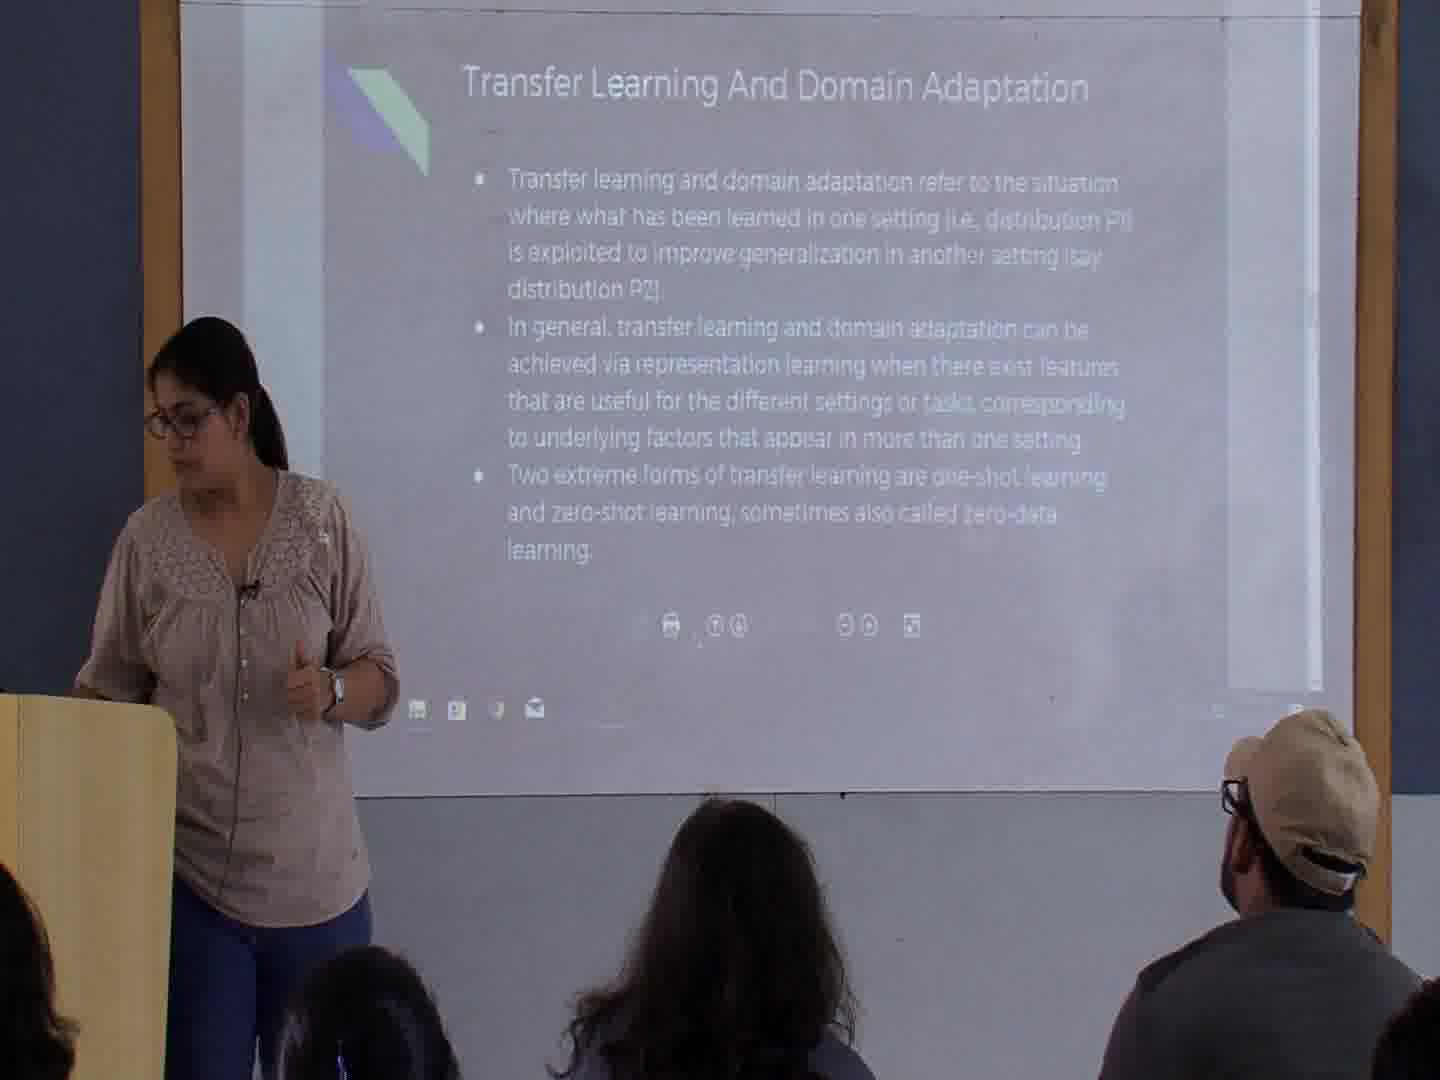slide: (244, 1, 1320, 724)
